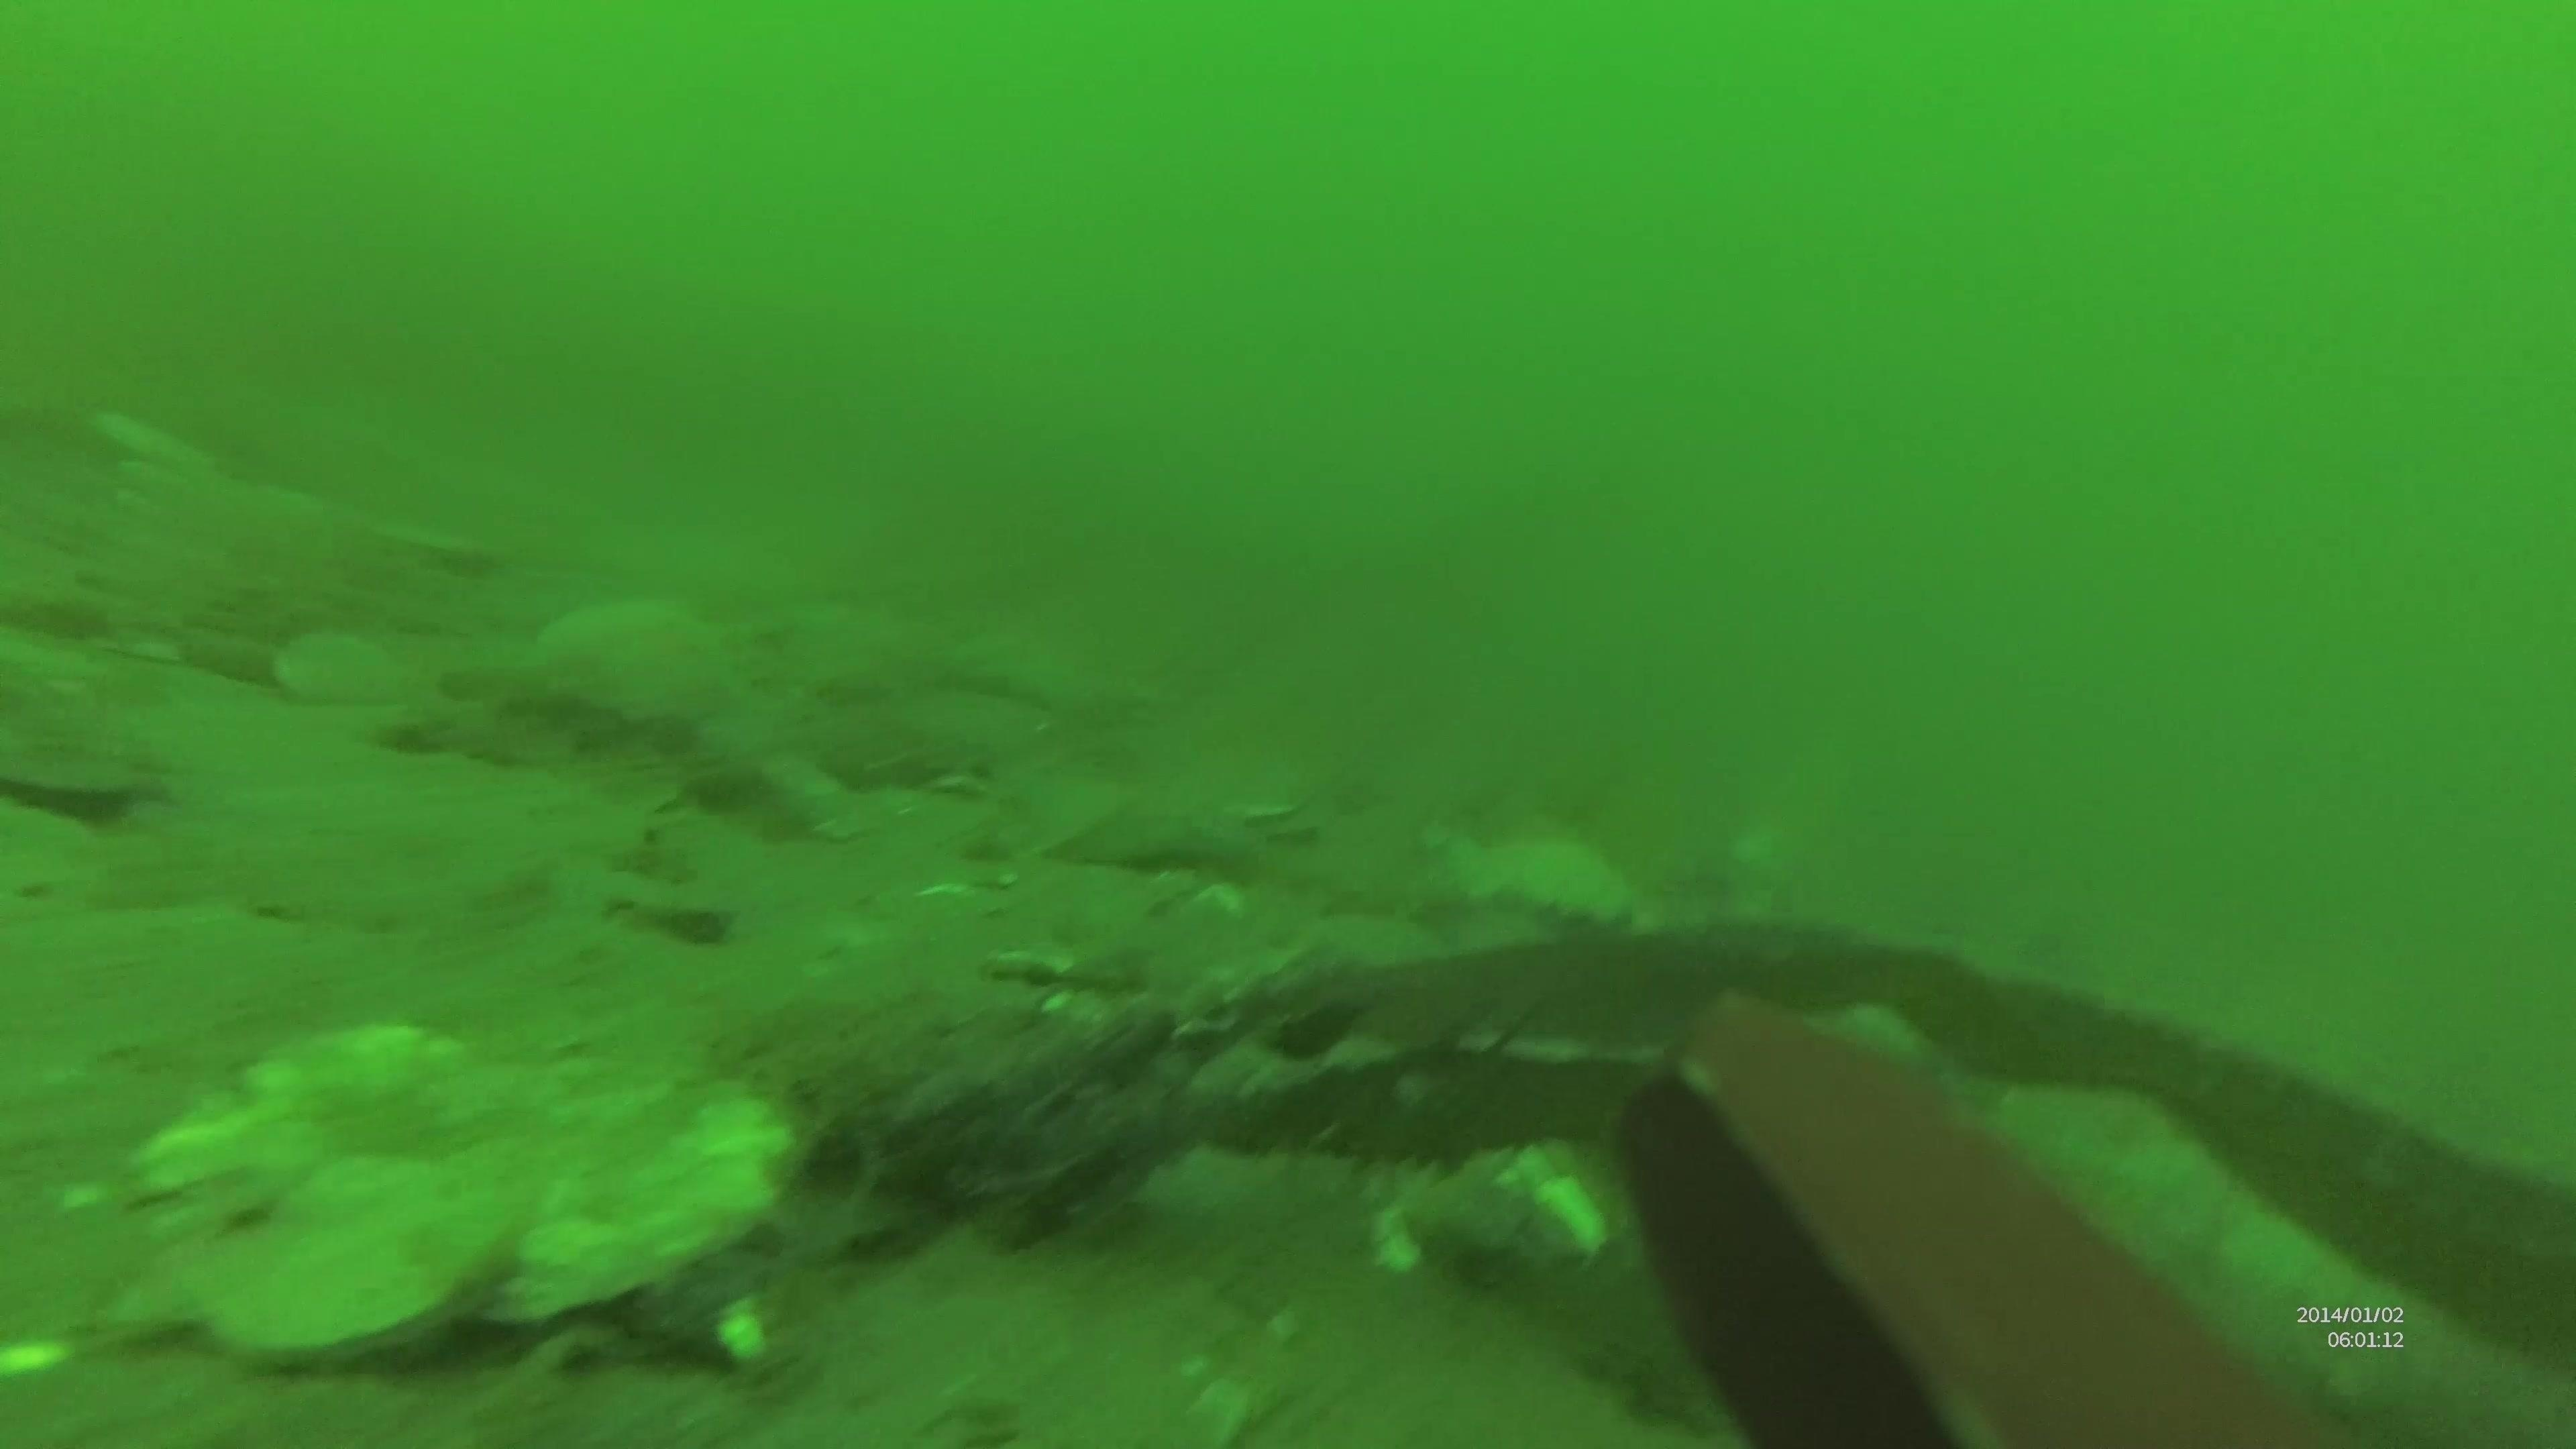scallop: (92, 1162, 487, 1371)
starfish: (524, 589, 740, 731), (1421, 816, 1649, 943)
